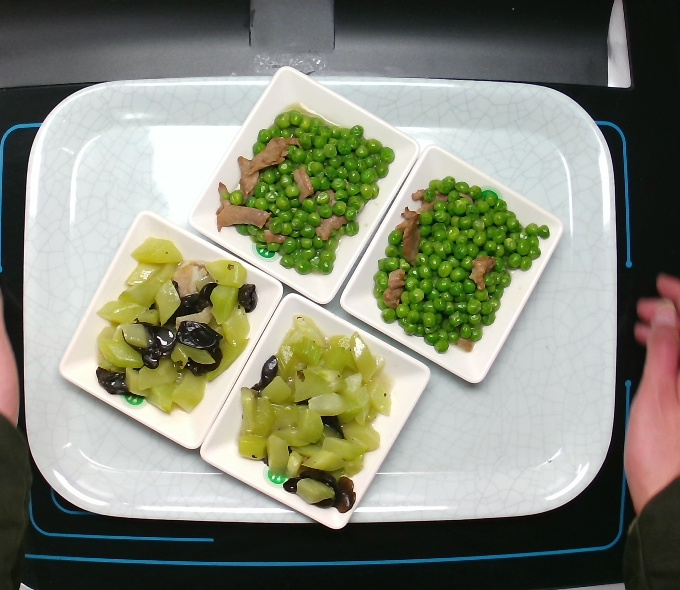wcq-CanDouRouSi: (205, 99, 397, 279), (361, 178, 553, 358)
wcq-WoSunKuai: (235, 308, 403, 513), (90, 227, 258, 432)
